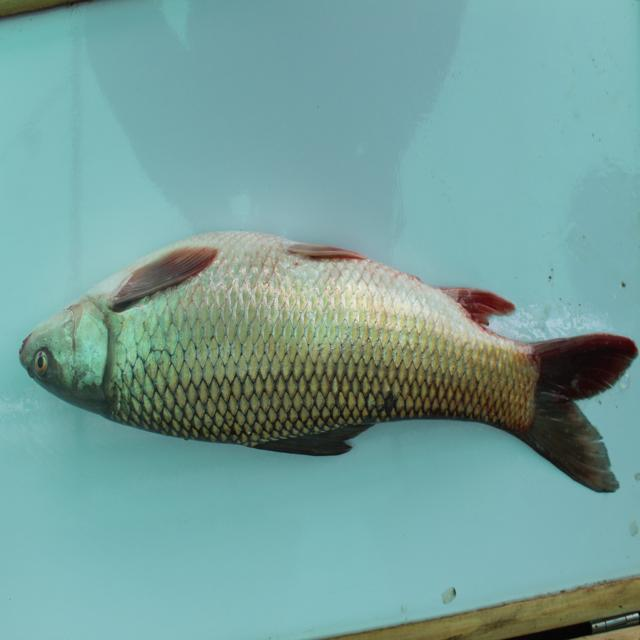Mori: (22, 214, 633, 495)
